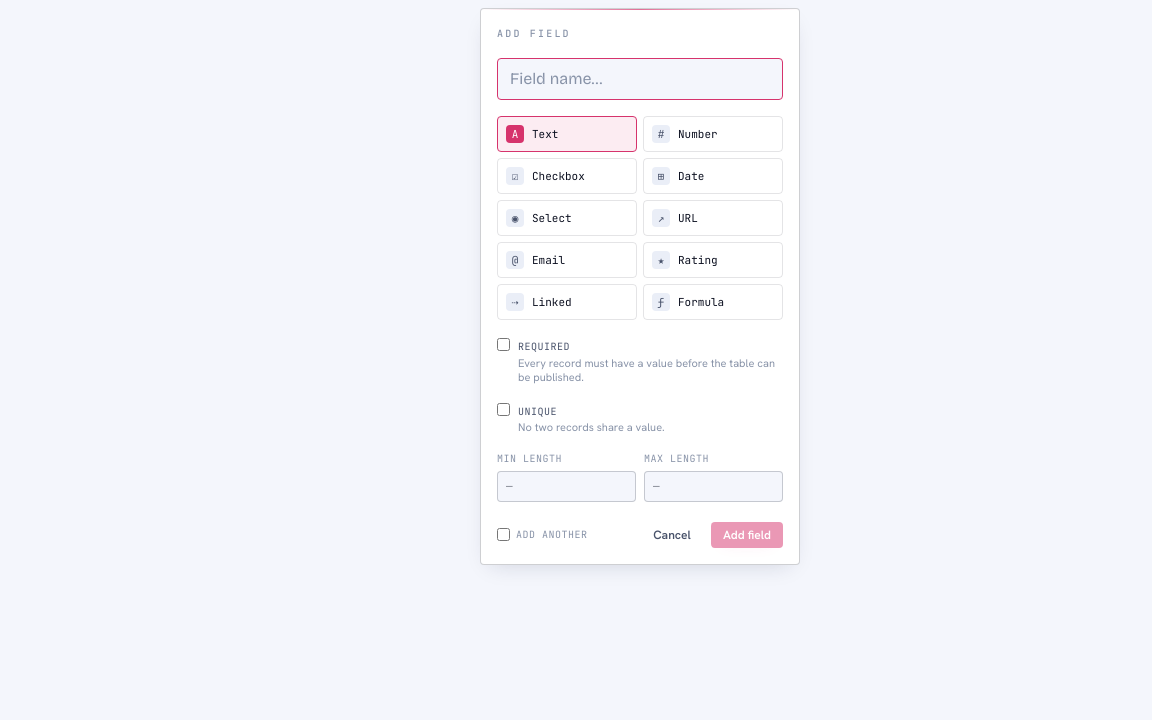
Test: AddFieldPopover validation › does not show Unique control for boolean type
Click the text "Checkbox".
click(558, 176)  # box [532, 168, 585, 185]
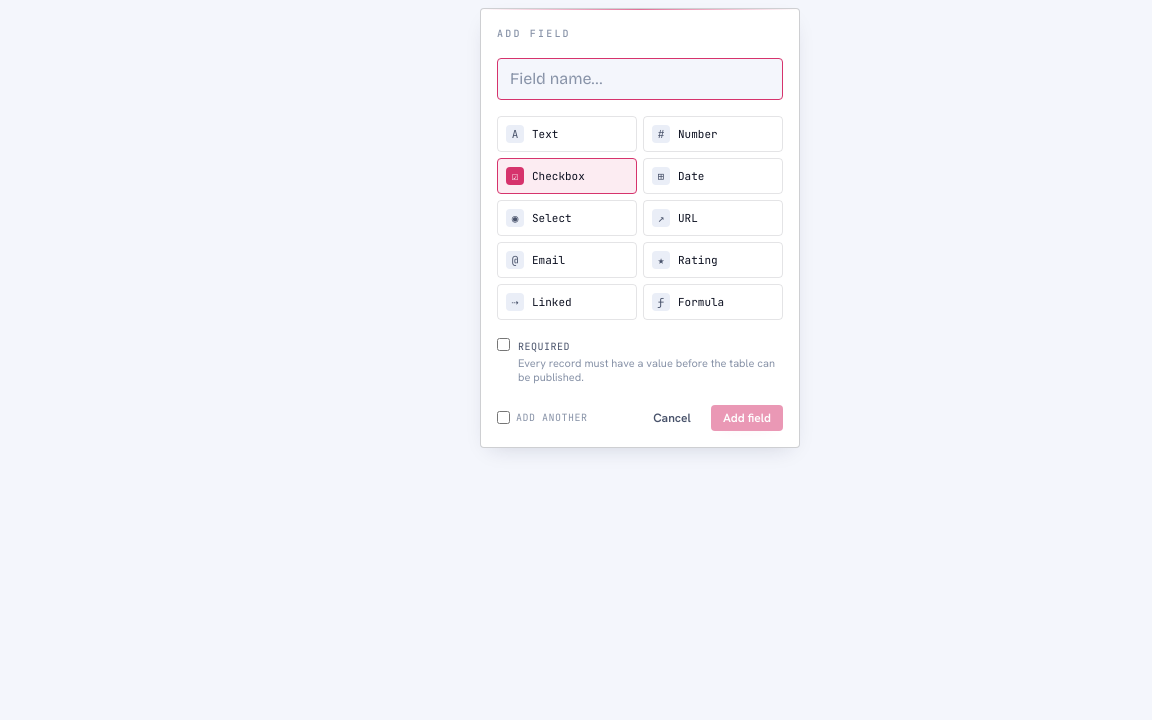
Check: the text labelled "Unique" is gone
